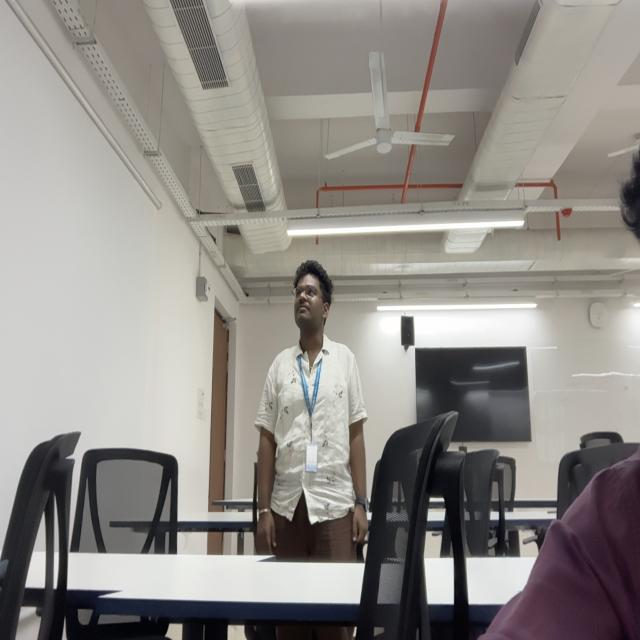sai: (293, 262, 334, 332)
